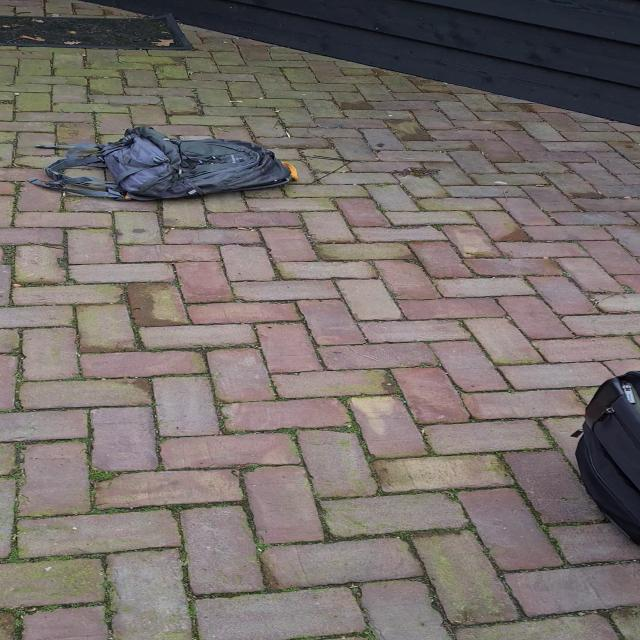backpack: (566, 369, 640, 551)
